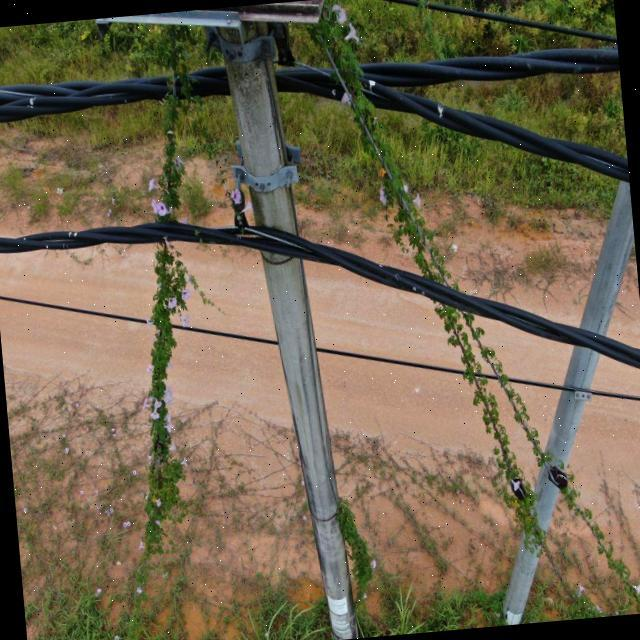critical vegetation: (306, 2, 640, 626), (72, 35, 252, 634)
